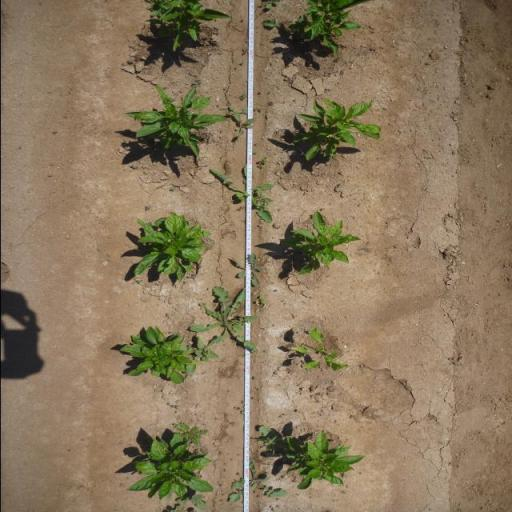plant: (120, 88, 227, 157), (128, 210, 212, 283), (125, 432, 215, 500), (292, 96, 382, 161), (281, 210, 361, 276), (284, 431, 367, 492), (147, 0, 232, 55), (117, 325, 192, 387), (304, 0, 373, 55), (290, 328, 350, 370)
weed: (187, 284, 258, 354), (209, 165, 276, 224), (228, 458, 288, 504), (181, 335, 223, 378), (230, 252, 264, 286), (262, 12, 305, 38), (254, 424, 288, 455), (171, 420, 210, 447), (168, 494, 211, 512), (235, 112, 254, 138), (146, 0, 170, 18), (197, 302, 213, 316), (228, 106, 248, 114), (264, 0, 280, 9), (255, 295, 266, 305), (190, 79, 202, 87), (258, 156, 268, 164), (165, 403, 178, 409), (238, 92, 246, 100), (235, 205, 244, 211), (187, 274, 196, 280), (252, 106, 260, 112), (228, 422, 235, 428), (277, 414, 287, 418), (130, 164, 139, 168), (144, 205, 150, 211), (294, 408, 300, 414), (333, 57, 340, 62), (267, 101, 274, 106), (252, 142, 258, 147), (170, 186, 175, 192), (342, 473, 348, 478), (134, 280, 141, 284), (165, 312, 169, 318), (233, 407, 241, 410), (240, 410, 244, 416), (240, 400, 245, 404), (318, 391, 322, 396), (237, 472, 240, 478), (257, 165, 262, 168), (252, 152, 258, 154), (320, 208, 324, 211), (252, 377, 256, 380), (316, 400, 321, 402), (251, 398, 255, 400), (184, 282, 186, 283)
